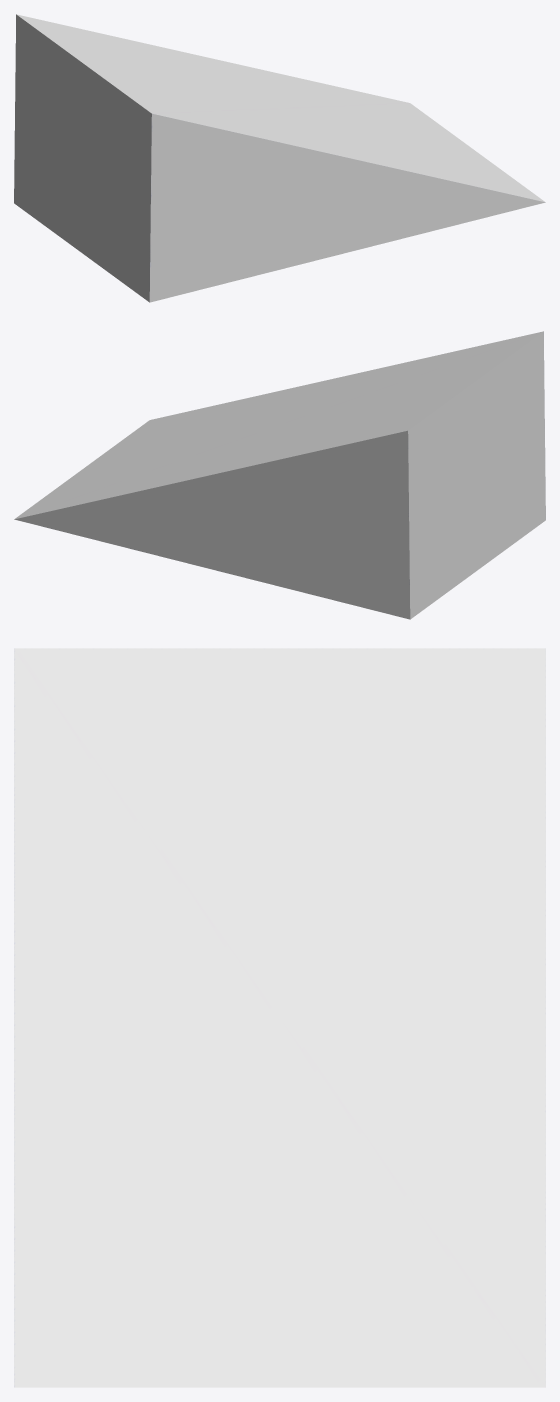
The model's file is Ice Ramp.fbx.
3 renders of one model, top to bottom at view 1: azimuth 30°, elevation 25°; view 2: azimuth 150°, elevation 25°; view 3: azimuth 270°, elevation 25°, orthographic. The views are drawn at different scales.
Parts seen in each view (by area): view 1: root; view 2: root; view 3: root.
Part boxes in pixels (<box>): root: <box>14,14,545,302</box>; root: <box>14,331,545,619</box>; root: <box>14,648,545,1387</box>.
Bounding box in the file's own units: 0.286 × 0.13 × 0.1697.
1 material, 1 textured.
